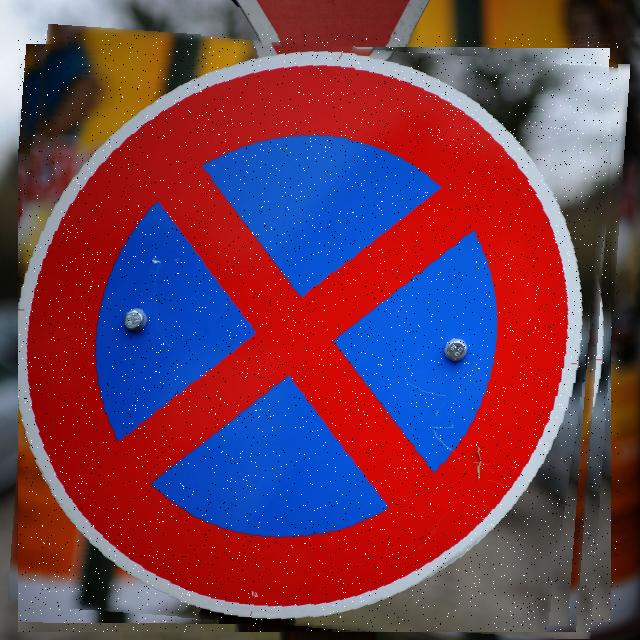no stopping: (18, 34, 620, 632)
